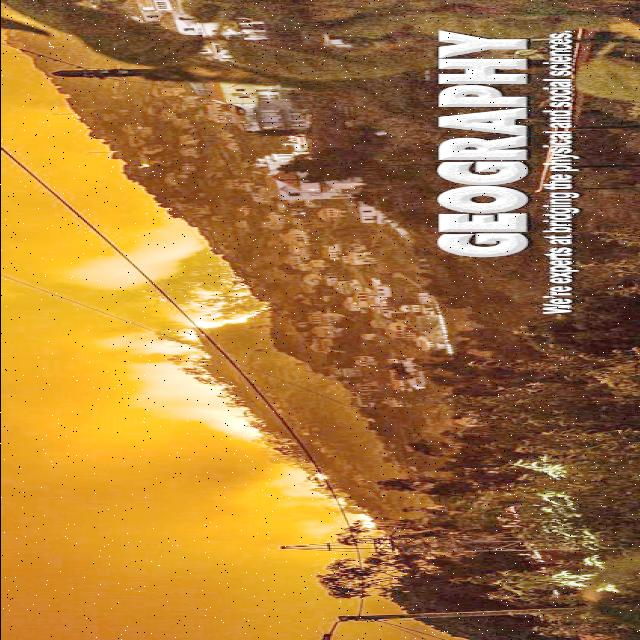api: (535, 555, 619, 596), (491, 447, 578, 483), (172, 306, 276, 333), (515, 490, 592, 519), (540, 525, 614, 551)
